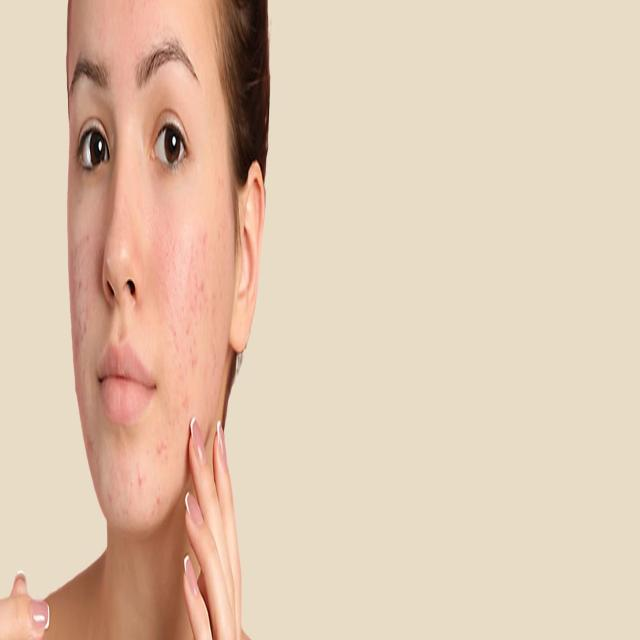Acne: (146, 167, 230, 442), (81, 357, 178, 530), (69, 204, 102, 387)
